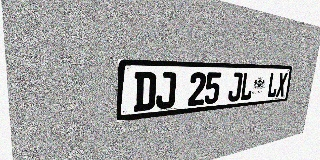2: (188, 72, 207, 106)
5: (204, 72, 221, 105)
D: (133, 72, 157, 112)
J: (155, 72, 177, 110), (227, 72, 243, 102)
L: (240, 72, 254, 101), (267, 73, 279, 98)
X: (276, 73, 288, 97)
